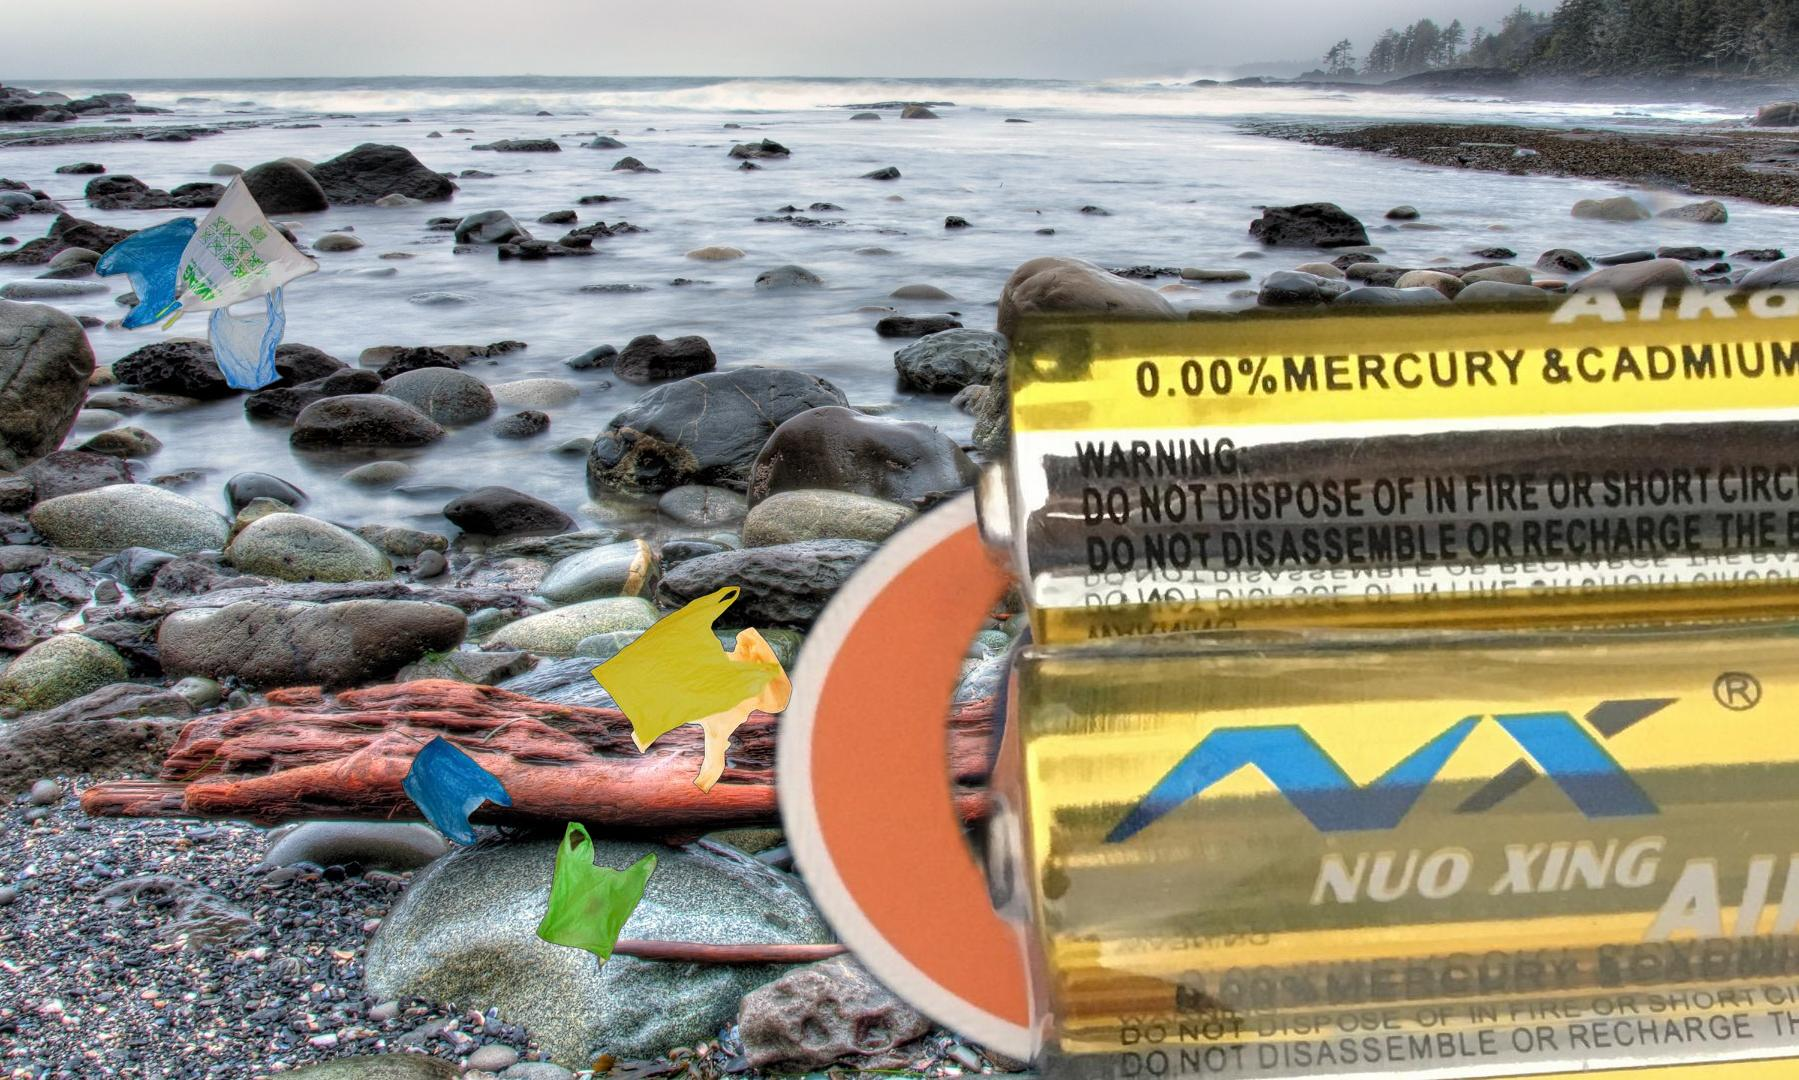battery: (744, 246, 1799, 1080)
plastic-bag: (398, 733, 660, 975), (94, 168, 323, 392), (589, 584, 793, 797)
